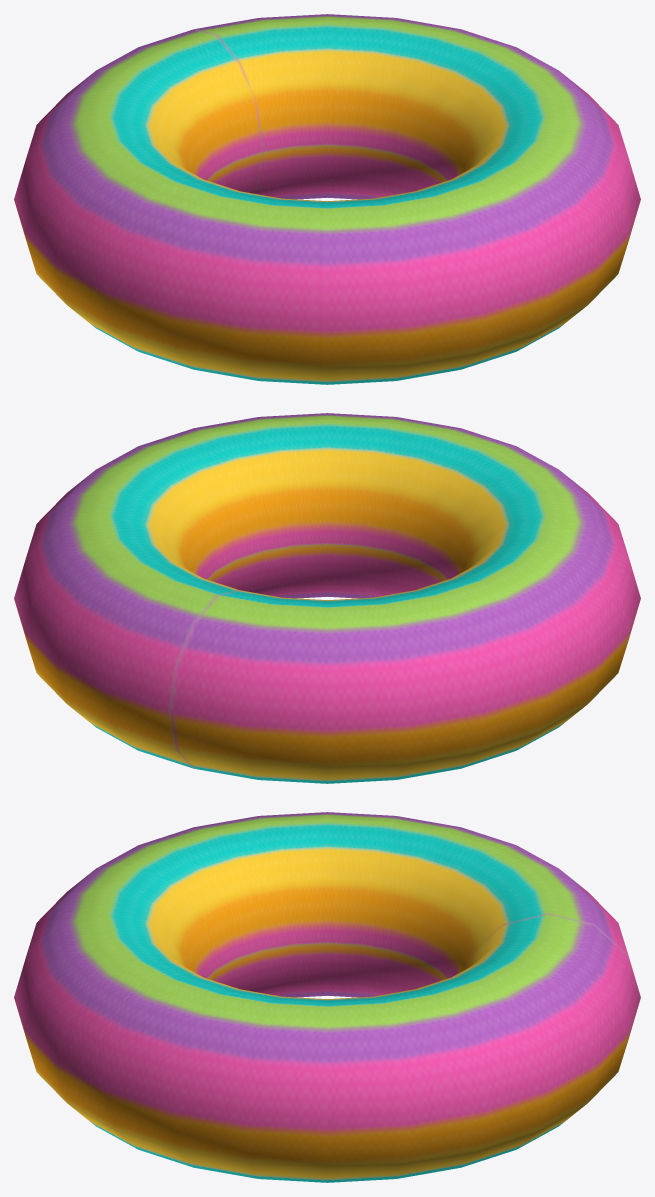
File: RAINBOW.fbx
The picture shows the model from 3 angles, top to bottom: view 1: azimuth 30°, elevation 25°; view 2: azimuth 150°, elevation 25°; view 3: azimuth 270°, elevation 25°; orthographic projection.
Visible parts, largest first — view 1: FLOAT_RAINBOW; view 2: FLOAT_RAINBOW; view 3: FLOAT_RAINBOW.
Part boxes in pixels (x1,y1,x2,y2): FLOAT_RAINBOW: (14,14,640,384); FLOAT_RAINBOW: (14,413,640,783); FLOAT_RAINBOW: (14,812,640,1182).
Bounding box in the file's own units: 170 × 50 × 170.
